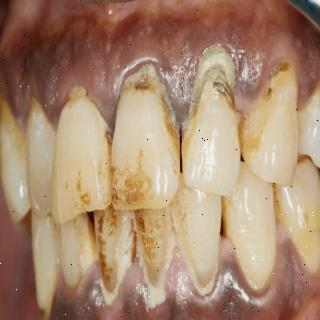Gum Swelling: (164, 221, 317, 311), (40, 66, 129, 126), (128, 53, 196, 124), (225, 37, 286, 104), (73, 257, 121, 315), (118, 259, 147, 315)
calculus: (112, 59, 182, 135), (188, 45, 240, 134), (180, 245, 222, 307), (98, 243, 134, 309), (139, 253, 173, 318), (51, 69, 96, 117), (261, 50, 293, 112), (23, 85, 47, 133)
plaque: (1, 100, 27, 174), (179, 109, 205, 174), (242, 104, 272, 160), (116, 213, 148, 265), (158, 198, 190, 248)
stains: (114, 82, 179, 204), (64, 119, 112, 215), (95, 206, 134, 290), (133, 205, 169, 285), (63, 215, 92, 282), (270, 174, 301, 236)
